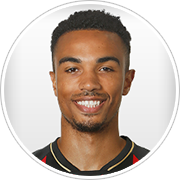face: (45, 51, 137, 132)
